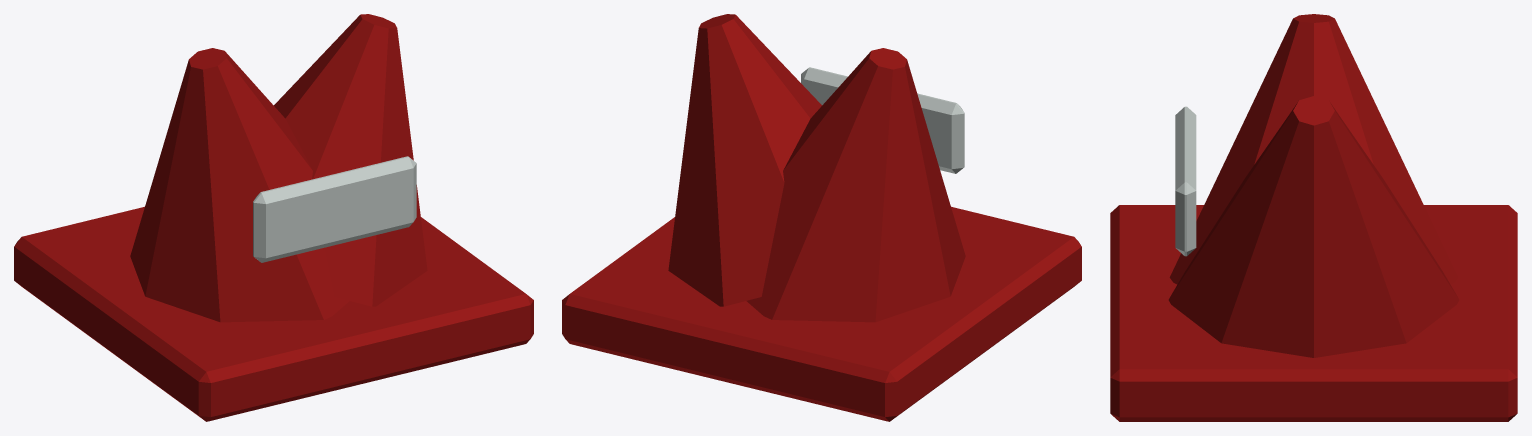
Rendered from CrushedTrafficCone.fbx.
The picture shows the model from 3 angles, left to right: view 1: azimuth 30°, elevation 25°; view 2: azimuth 150°, elevation 25°; view 3: azimuth 270°, elevation 25°; orthographic projection. The views are drawn at different scales.
Parts seen in each view (by area): view 1: CrushedTrafficCone; view 2: CrushedTrafficCone; view 3: CrushedTrafficCone.
Boxes of the visible parts, x1,y1,x2,y2 form: CrushedTrafficCone: (14, 14, 533, 421); CrushedTrafficCone: (562, 14, 1081, 421); CrushedTrafficCone: (1110, 14, 1517, 421).
Bounding box in the file's own units: 35 × 27.62 × 35.
1 material, 1 textured.
